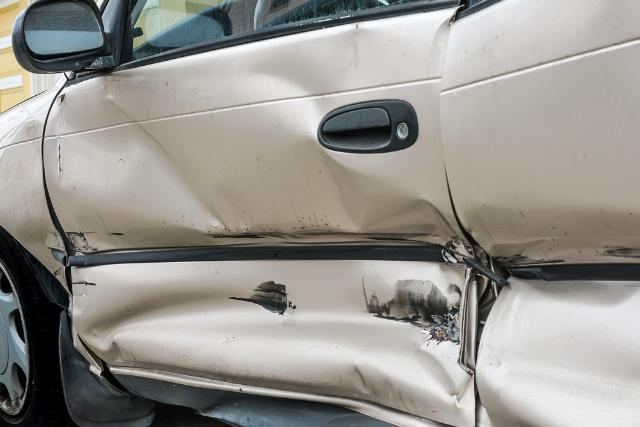dent: (53, 22, 473, 417), (467, 208, 640, 427)
